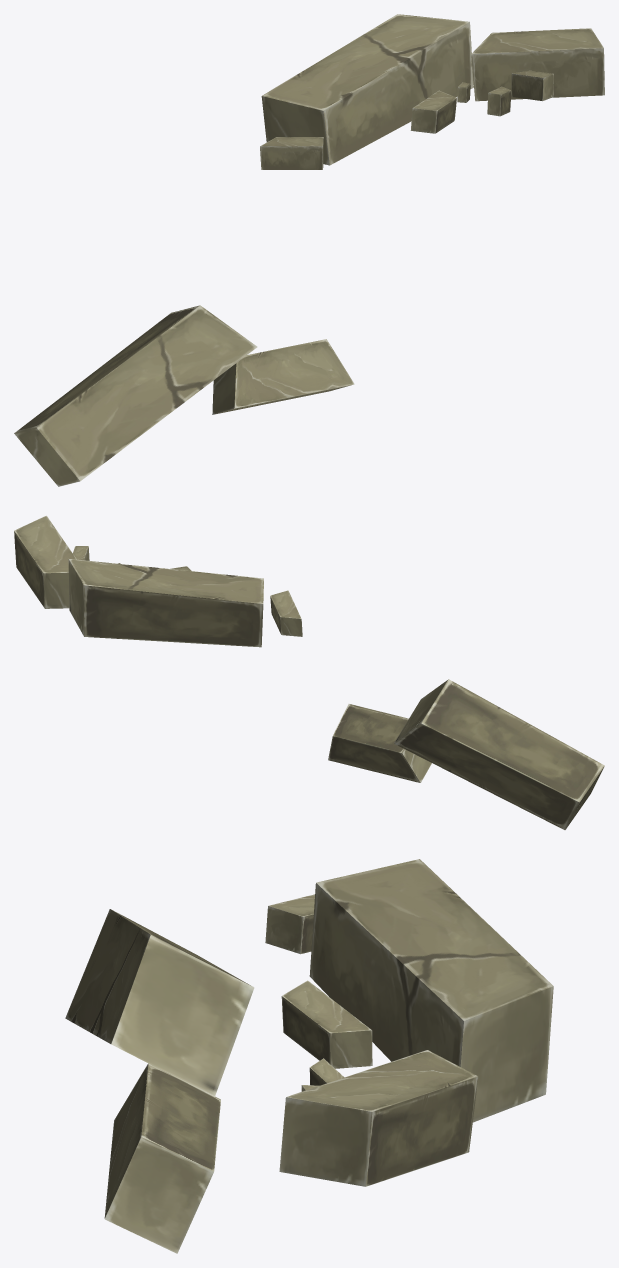
Rendered from wallrocks_base3.fbx.
3 views of the same model, one above another, from view 1: azimuth 30°, elevation 25°; view 2: azimuth 150°, elevation 25°; view 3: azimuth 270°, elevation 25° (orthographic). The views are drawn at different scales.
Visible parts, largest first — view 1: rocks5; view 2: rocks5; view 3: rocks5.
Part boxes in pixels (x1,y1,x2,y2): rocks5: (14,14,604,486); rocks5: (14,515,604,829); rocks5: (65,859,553,1253).
Size of the model in its own units: 1.54 by 0.6337 by 0.6195.
